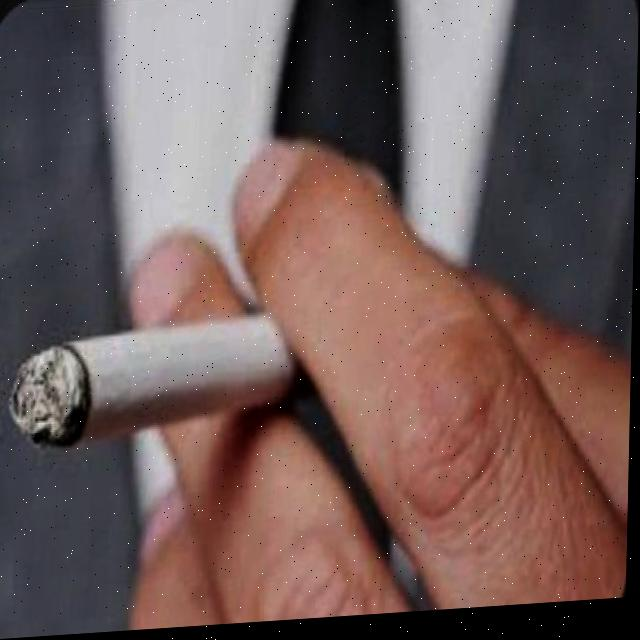cigarette: (8, 311, 291, 454)
